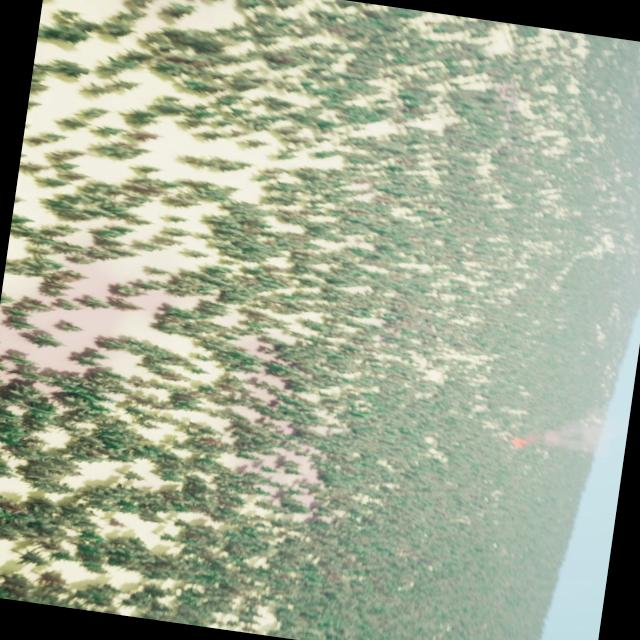fire: (512, 436, 532, 452)
smoke: (533, 402, 615, 460)
